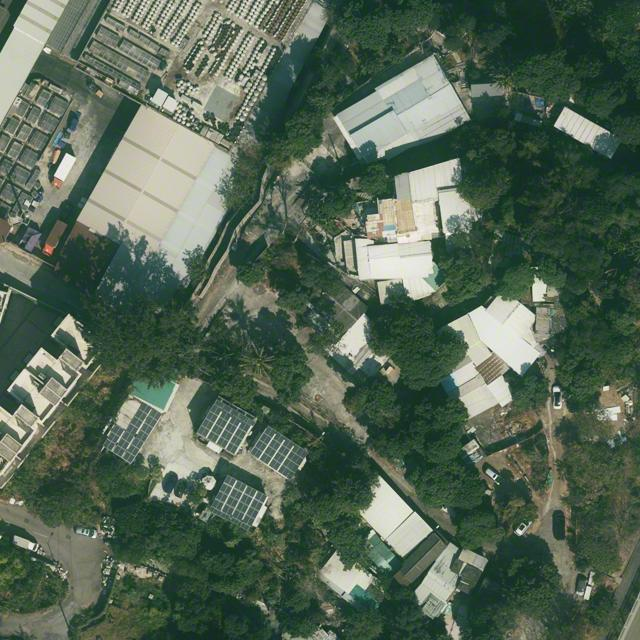panel: (209, 475, 268, 531), (197, 399, 255, 455), (250, 426, 309, 480), (111, 403, 163, 464), (101, 424, 125, 451)
